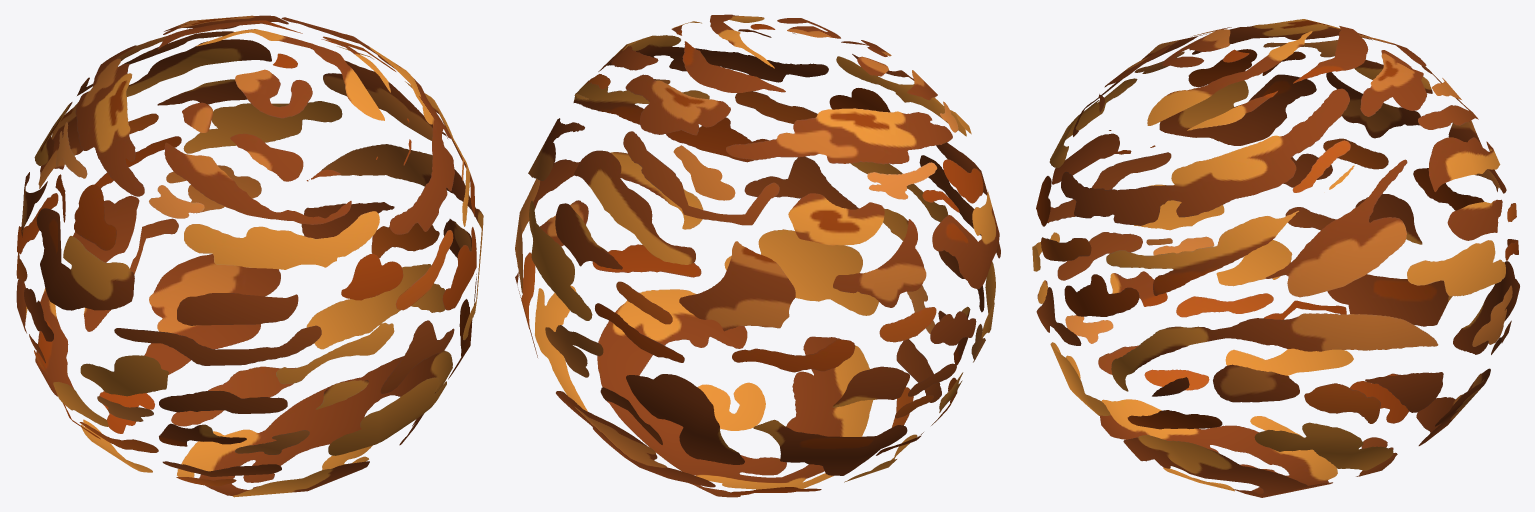
File: third_layer.obj
3 views of the same model, side by side, from view 1: azimuth 30°, elevation 25°; view 2: azimuth 150°, elevation 25°; view 3: azimuth 270°, elevation 25° (orthographic). The views are drawn at different scales.
Visible parts, largest first — view 1: level_2_Cube.002; view 2: level_2_Cube.002; view 3: level_2_Cube.002.
Part boxes in pixels (left/top/right/bottom): level_2_Cube.002: left=16, top=15, right=483, bottom=497; level_2_Cube.002: left=515, top=14, right=1000, bottom=497; level_2_Cube.002: left=1032, top=19, right=1519, bottom=497.
Size of the model in its own units: 1.71 by 1.69 by 1.71.
Materials: 1 (1 with a texture image).
